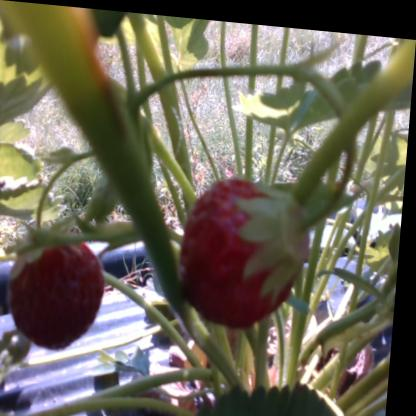ripe: (177, 175, 322, 325), (17, 224, 110, 348)
